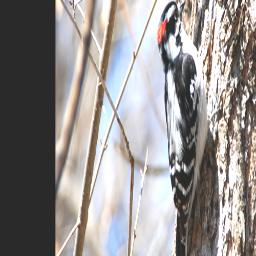Woodpecker: (155, 0, 210, 256)
